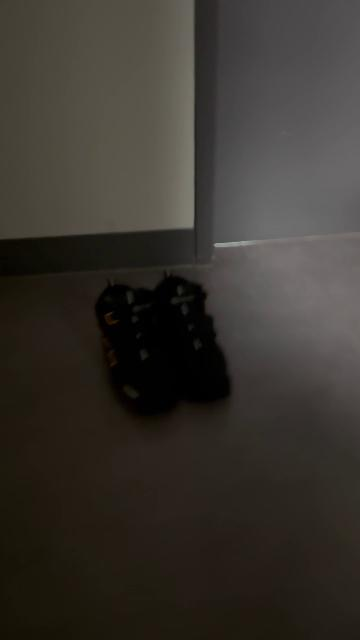shoe_worn: (87, 277, 178, 421), (151, 271, 238, 407)
